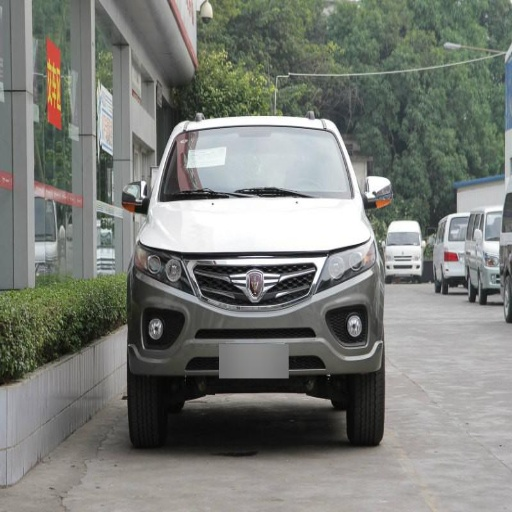front_bumper: (130, 250, 383, 386)
front_right_light: (137, 245, 184, 285)
hood: (142, 199, 370, 252)
